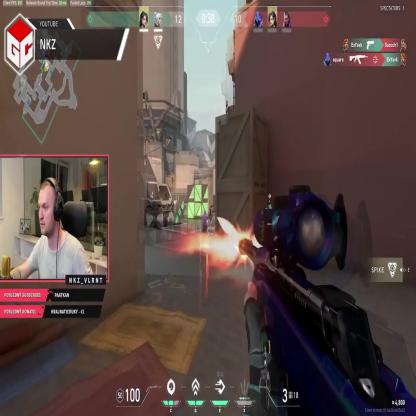enemy: (201, 210, 207, 243)
enemy_head: (204, 209, 206, 214)
